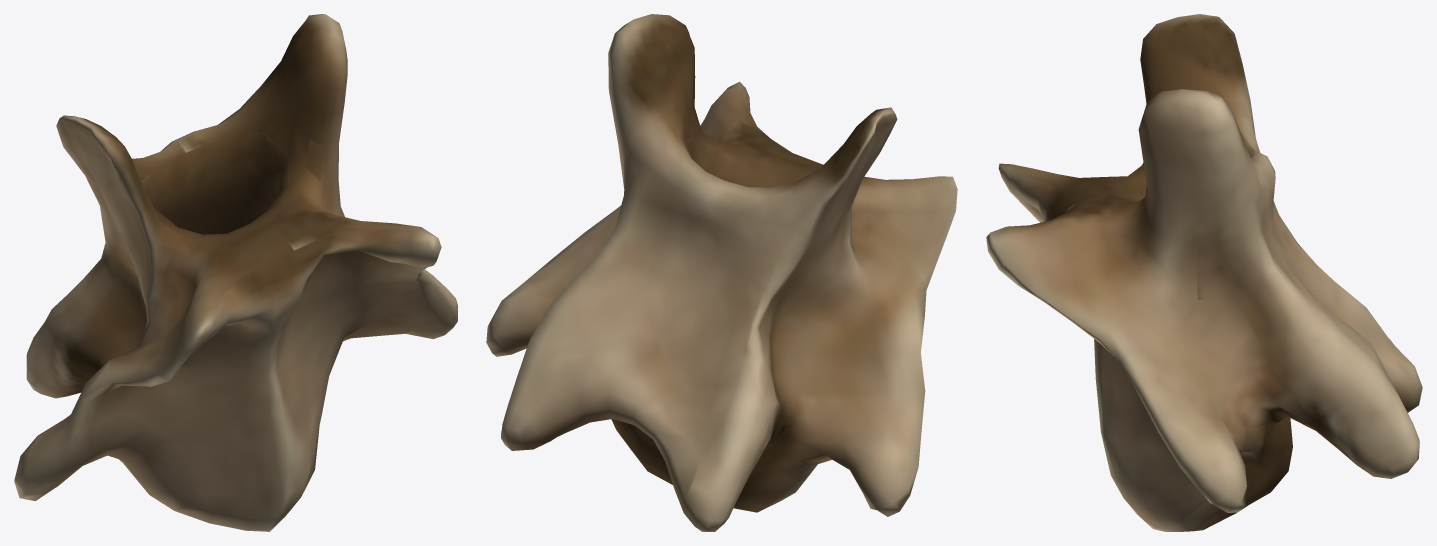
The model's file is Cervical_Vertebrae4.glb.
The picture shows the model from 3 angles, left to right: view 1: azimuth 30°, elevation 25°; view 2: azimuth 150°, elevation 25°; view 3: azimuth 270°, elevation 25°; orthographic projection. The views are drawn at different scales.
Parts seen in each view (by area): view 1: Horse_low:SelSet_42Merged_L_Frt_Sesamoid_Bones_1; view 2: Horse_low:SelSet_42Merged_L_Frt_Sesamoid_Bones_1; view 3: Horse_low:SelSet_42Merged_L_Frt_Sesamoid_Bones_1.
Boxes of the visible parts, bbox=[...] form: Horse_low:SelSet_42Merged_L_Frt_Sesamoid_Bones_1: bbox=[14, 14, 457, 531]; Horse_low:SelSet_42Merged_L_Frt_Sesamoid_Bones_1: bbox=[486, 14, 957, 531]; Horse_low:SelSet_42Merged_L_Frt_Sesamoid_Bones_1: bbox=[986, 14, 1422, 531].
Size of the model in its own units: 0.1385 by 0.1467 by 0.122.
1 material, 1 textured.
